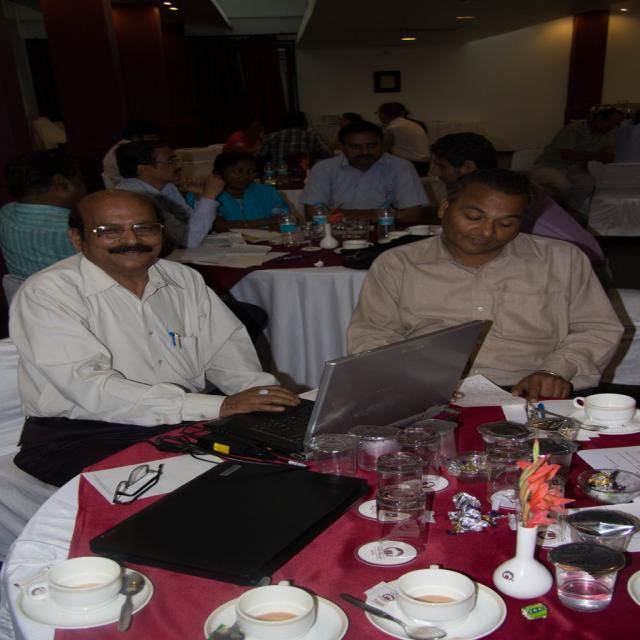Tea: (256, 612, 298, 620), (417, 596, 459, 603)
